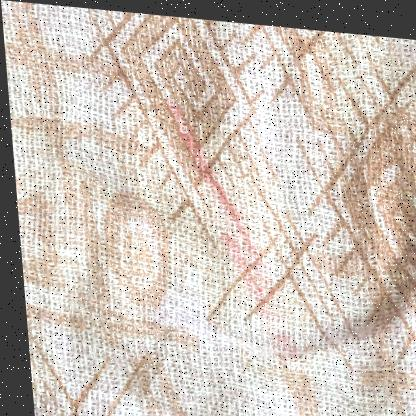spot: (142, 76, 322, 416)
